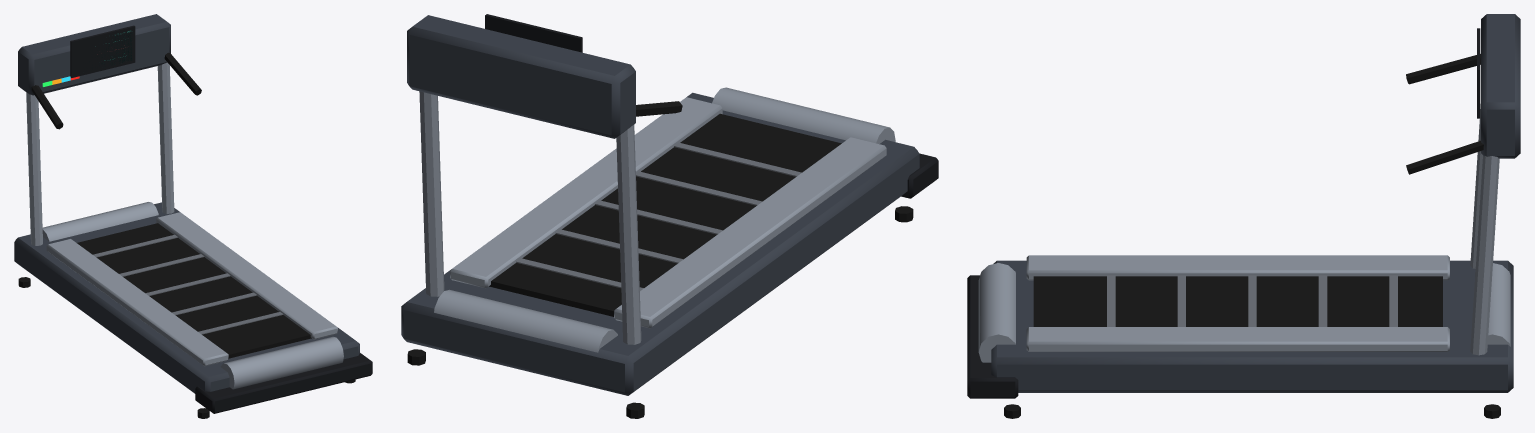
File: gym_treadmill.glb
3 renders of one model, left to right at view 1: azimuth 30°, elevation 25°; view 2: azimuth 150°, elevation 25°; view 3: azimuth 270°, elevation 25°, orthographic. The views are drawn at different scales.
Visible parts, largest first — view 1: gym_treadmill; view 2: gym_treadmill; view 3: gym_treadmill.
Part boxes in pixels (<box>): gym_treadmill: <box>14,14,372,418</box>; gym_treadmill: <box>401,14,938,418</box>; gym_treadmill: <box>967,14,1520,418</box>.
Size of the model in its own units: 0.88 by 1.25 by 1.96.
Materials: 10 (1 with a texture image).
